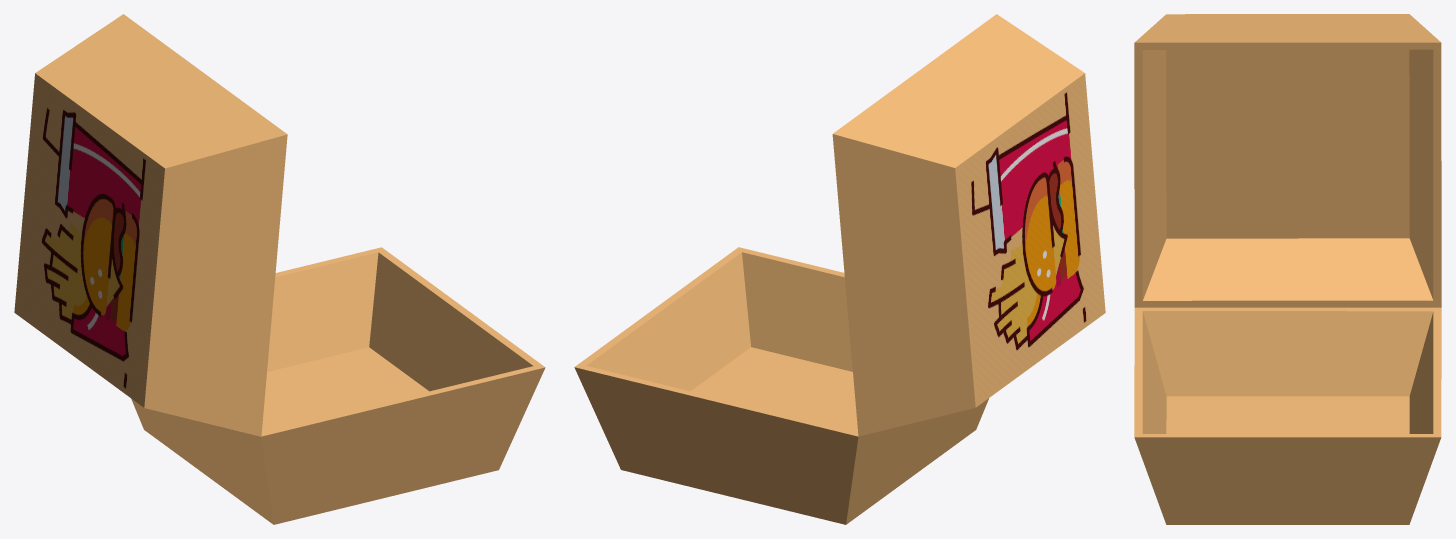
File: burger box animation.fbx
3 views of the same model, side by side, from view 1: azimuth 30°, elevation 25°; view 2: azimuth 150°, elevation 25°; view 3: azimuth 270°, elevation 25° (orthographic). The views are drawn at different scales.
Parts seen in each view (by area): view 1: Burger Box top, Burger Box bottom; view 2: Burger Box top, Burger Box bottom; view 3: Burger Box top, Burger Box bottom.
Part boxes in pixels (x1,y1,x2,y2): Burger Box top: (14, 14, 287, 436); Burger Box bottom: (131, 247, 545, 524); Burger Box top: (832, 14, 1105, 436); Burger Box bottom: (574, 247, 988, 524); Burger Box top: (1134, 14, 1441, 307); Burger Box bottom: (1134, 307, 1441, 524).
Bounding box in the file's own units: 0.6025 × 0.6055 × 0.446.
